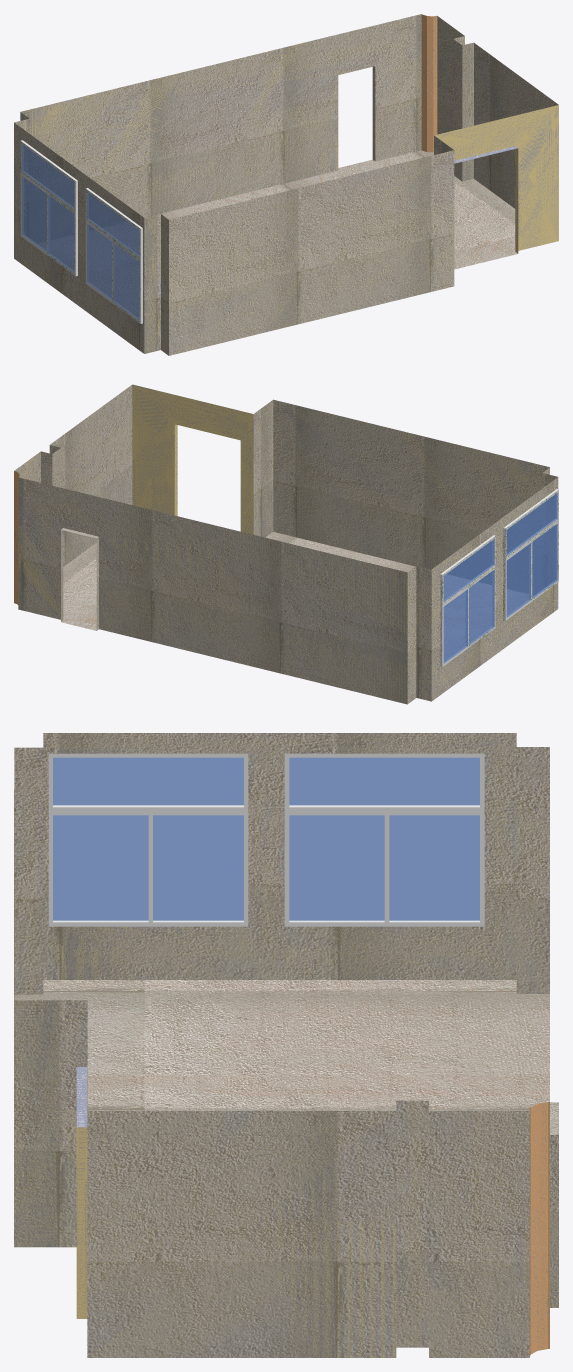
The model's file is LAB033.obj.
The picture shows the model from 3 angles, top to bottom: view 1: azimuth 30°, elevation 25°; view 2: azimuth 150°, elevation 25°; view 3: azimuth 270°, elevation 25°; orthographic projection. The views are drawn at different scales.
Visible parts, largest first — view 1: Mesh13 LAB033 Model, Mesh1 ventana1_1 LAB033 Model, Mesh7 ventana1_2 LAB033 Model; view 2: Mesh13 LAB033 Model, Mesh1 ventana1_1 LAB033 Model, Mesh7 ventana1_2 LAB033 Model; view 3: Mesh13 LAB033 Model, Mesh1 ventana1_1 LAB033 Model, Mesh7 ventana1_2 LAB033 Model.
Boxes of the visible parts, x1,y1,x2,y2 form: Mesh13 LAB033 Model: (14, 14, 558, 355); Mesh1 ventana1_1 LAB033 Model: (20, 140, 77, 276); Mesh7 ventana1_2 LAB033 Model: (85, 188, 142, 323); Mesh13 LAB033 Model: (14, 384, 558, 704); Mesh1 ventana1_1 LAB033 Model: (440, 535, 495, 666); Mesh7 ventana1_2 LAB033 Model: (503, 489, 558, 620); Mesh13 LAB033 Model: (14, 733, 558, 1357); Mesh1 ventana1_1 LAB033 Model: (284, 753, 484, 926); Mesh7 ventana1_2 LAB033 Model: (48, 753, 248, 926).
Size of the model in its own units: 9.89 by 3 by 6.
Materials: 9 (2 with a texture image).
